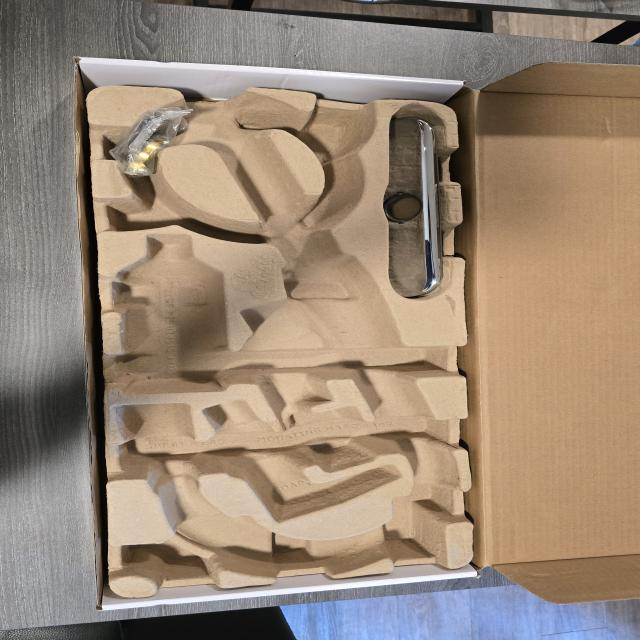1m: (119, 93, 459, 572)
2m: (206, 402, 387, 512)
3m: (117, 235, 226, 393)
4: (383, 116, 444, 301)
5m: (300, 111, 363, 158)
6: (109, 106, 189, 177)
7m: (114, 195, 209, 231)
